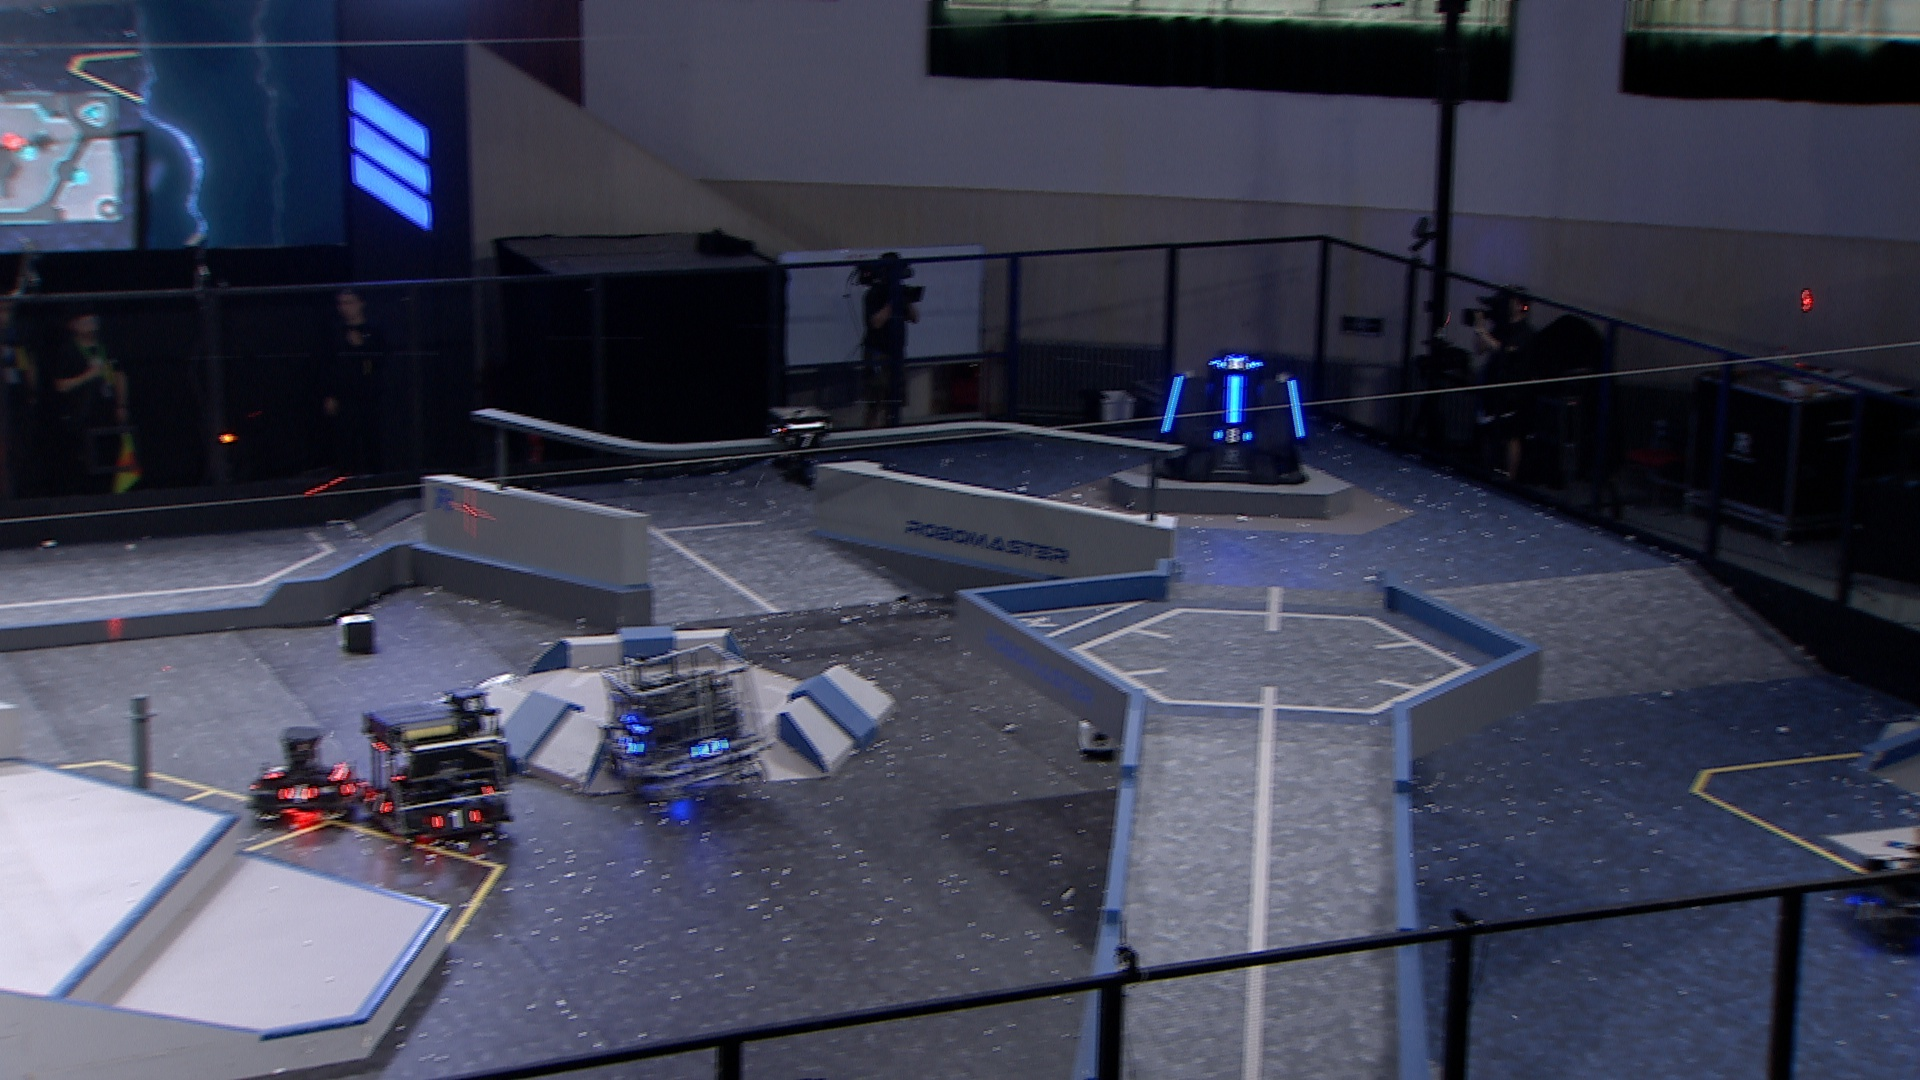armor: (1160, 375, 1185, 436), (1286, 376, 1309, 440), (429, 807, 483, 832), (1841, 894, 1882, 924), (1222, 372, 1245, 425), (688, 737, 731, 761), (278, 783, 320, 804), (1209, 429, 1255, 447), (363, 789, 392, 816), (615, 732, 645, 757), (1212, 356, 1259, 372), (789, 433, 825, 452), (261, 761, 285, 783)
base: (1150, 351, 1313, 487)
car: (600, 644, 774, 815), (357, 698, 514, 847), (1832, 812, 1920, 955), (245, 727, 365, 825)
watcher: (764, 404, 832, 489)
